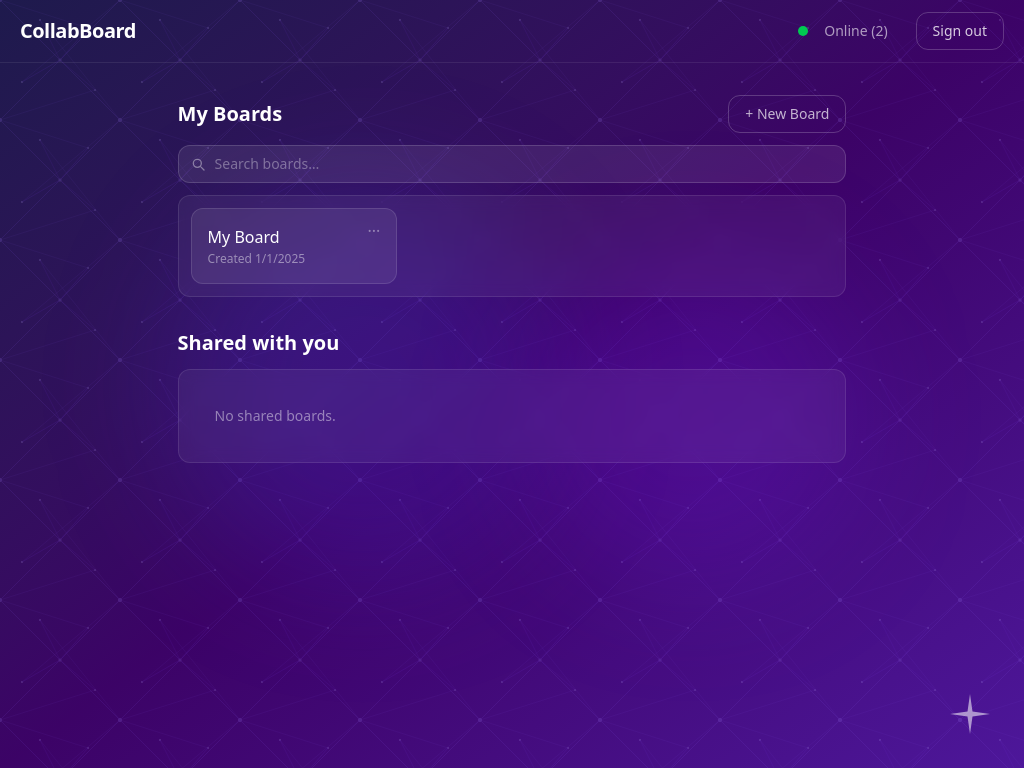
Test: BoardsListPage › My Boards cards show per-card action menu
The image size is (1024, 768).
Click the button named "open actions for my board" at (374,231), box [360,217,388,245]
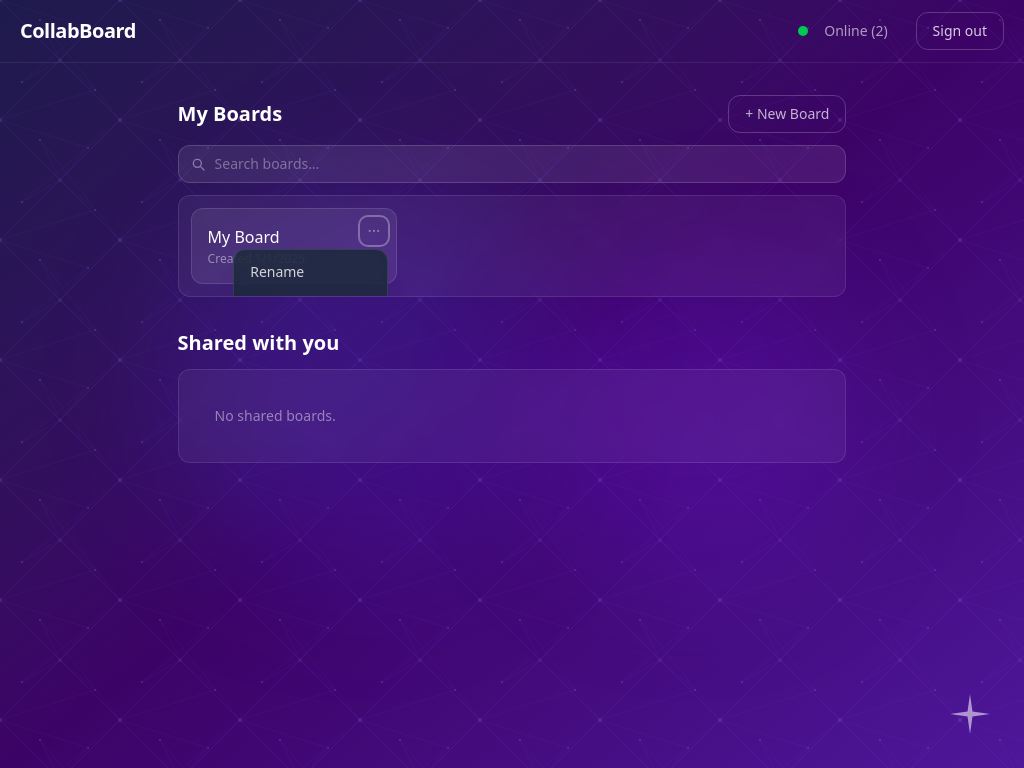
Result: the button "Rename" is shown at [238,254,383,290]
